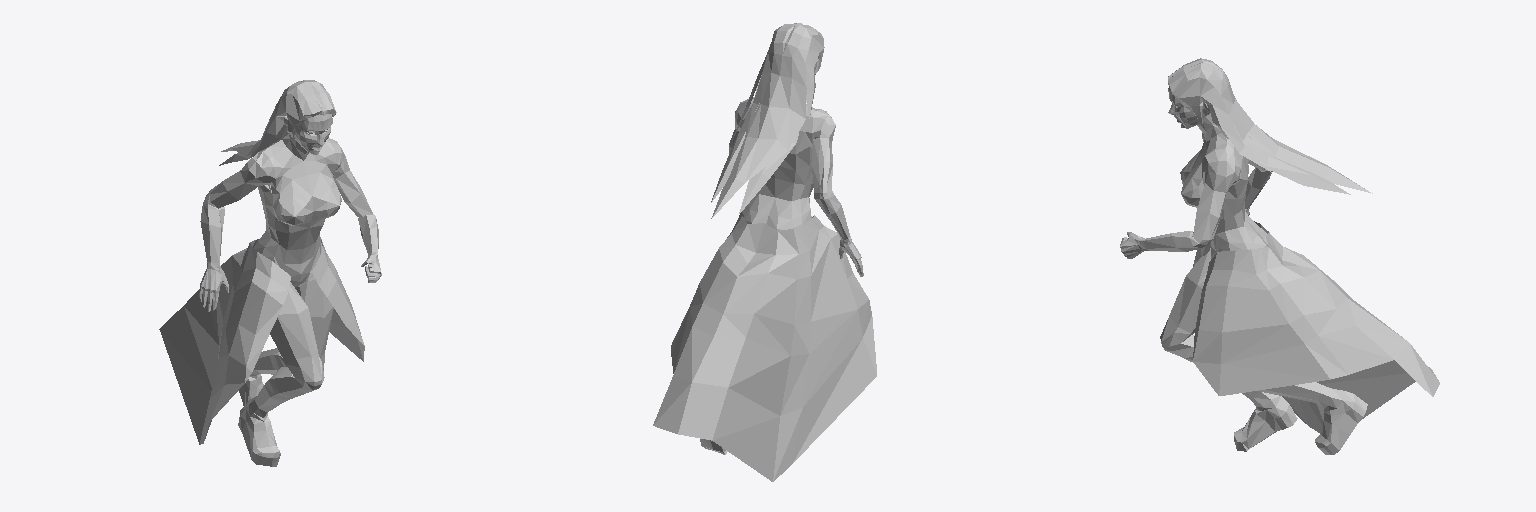
File: running_012.obj
3 renders of one model, left to right at view 1: azimuth 30°, elevation 25°; view 2: azimuth 150°, elevation 25°; view 3: azimuth 270°, elevation 25°, orthographic.
Visible parts, largest first — view 1: Plane.001_Plane.007, Plane.003_Plane.008, capelli.001_Plane.006; view 2: Plane.003_Plane.008, capelli.001_Plane.006, Plane.001_Plane.007; view 3: Plane.003_Plane.008, Plane.001_Plane.007, capelli.001_Plane.006.
Part boxes in pixels (x1,y1,x2,y2): Plane.001_Plane.007: (199,97,381,466); Plane.003_Plane.008: (159,239,364,444); capelli.001_Plane.006: (219,80,336,165); Plane.003_Plane.008: (653,207,876,481); capelli.001_Plane.006: (711,23,824,218); Plane.001_Plane.007: (700,62,863,454); Plane.003_Plane.008: (1193,221,1439,433); Plane.001_Plane.007: (1120,68,1367,454); capelli.001_Plane.006: (1168,58,1372,194).
Size of the model in its own units: 2.04 by 5 by 3.62.